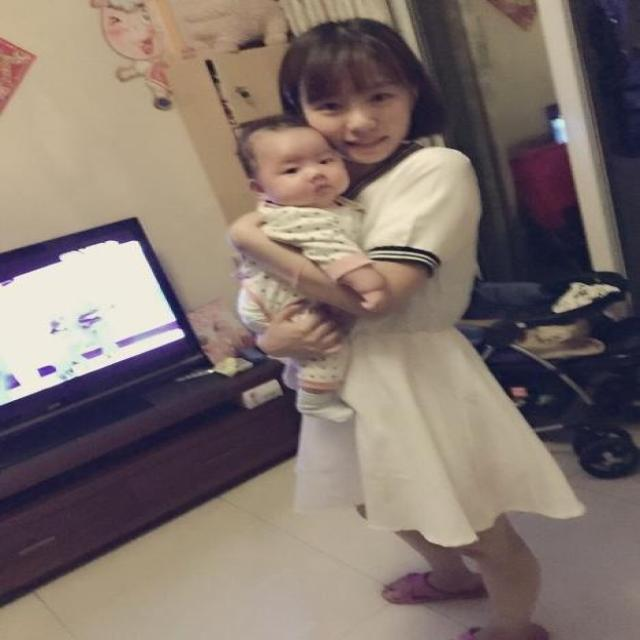short sleeve dress: (287, 143, 584, 533)
